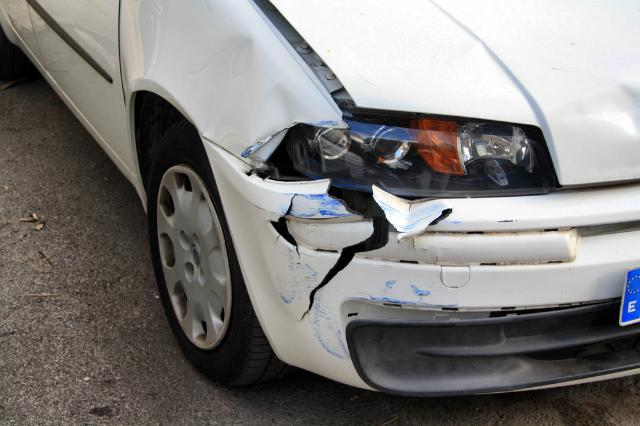crack: (300, 179, 391, 321), (269, 194, 300, 256), (424, 207, 454, 228)
dent: (182, 35, 299, 155), (558, 85, 640, 135)
dislocated part: (249, 1, 640, 191)
scratch: (349, 276, 454, 309), (312, 296, 350, 361), (275, 248, 318, 304), (293, 192, 349, 222)
